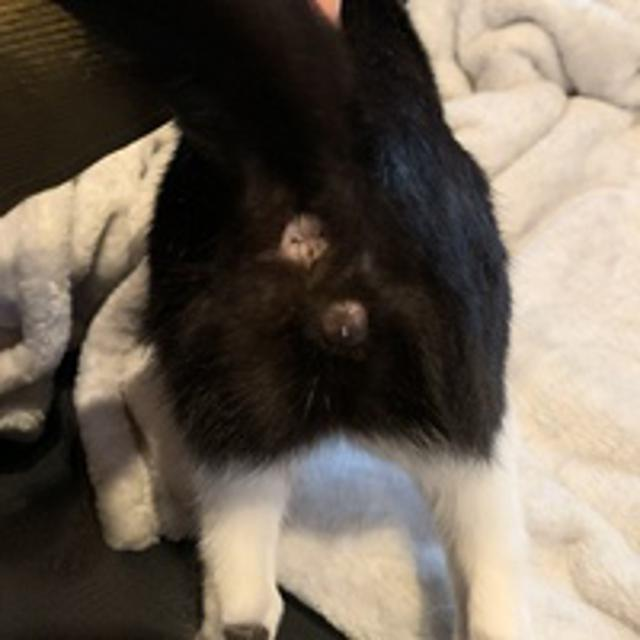lump_and_bump: (285, 215, 325, 267), (326, 298, 365, 341)
